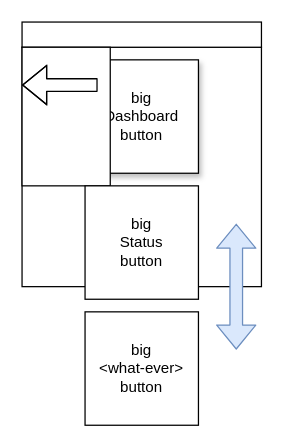
This 284x447 diagram has some shape labels left out. Each missing label, with the centre of its shape:
= logo.................profile icon..user: point 141,34
Navbar (collapse) - profile - billing ======= - dashbrd - status: point 65,116
